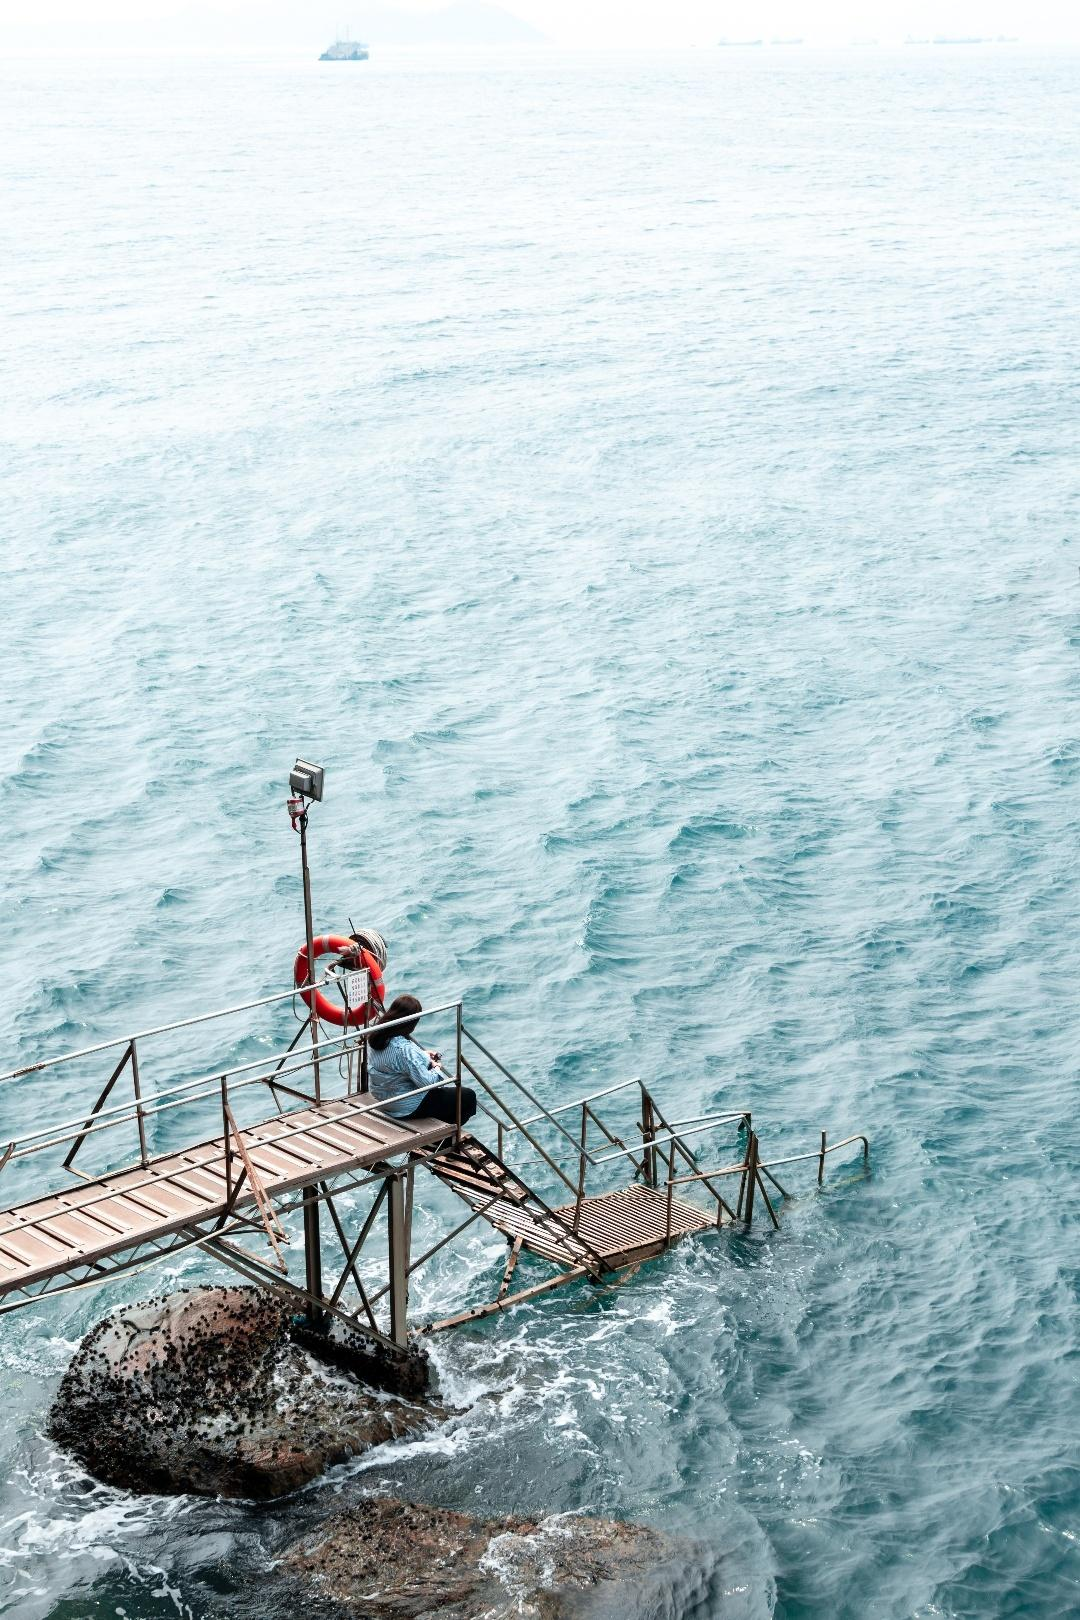trashbox-cardboard: (1069, 1235, 1080, 1620)
